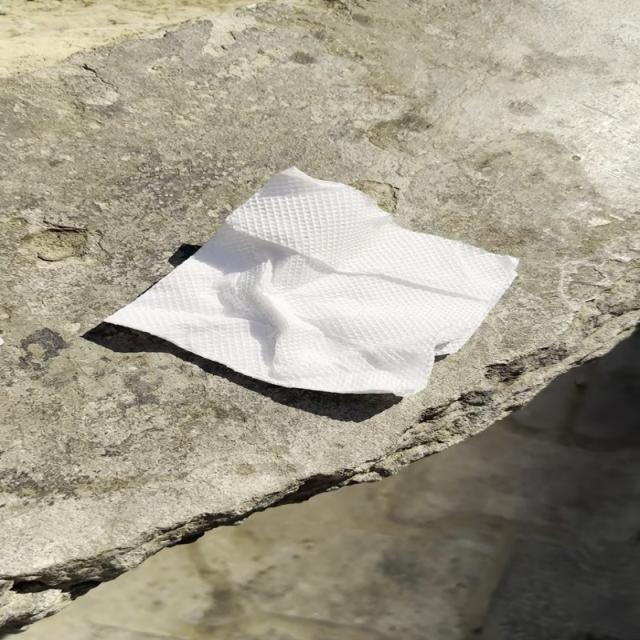tissue: (101, 167, 526, 400)
